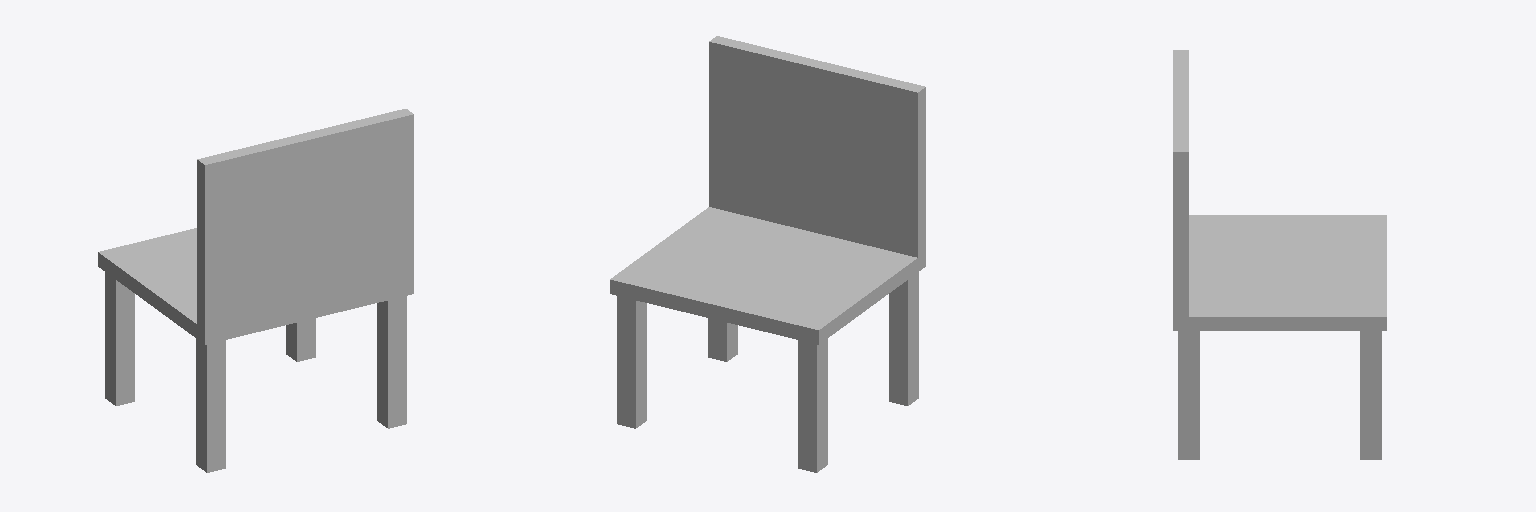
File: chair.obj
3 renders of one model, left to right at view 1: azimuth 30°, elevation 25°; view 2: azimuth 150°, elevation 25°; view 3: azimuth 270°, elevation 25°, orthographic.
Visible parts, largest first — view 1: object 1; view 2: object 1; view 3: object 1.
Boxes of the visible parts, box(x1,y1,x2,y2) form: object 1: box(98, 109, 413, 472); object 1: box(610, 36, 925, 472); object 1: box(1173, 50, 1386, 459).
Size of the model in its own units: 4.5 by 6.4 by 4.